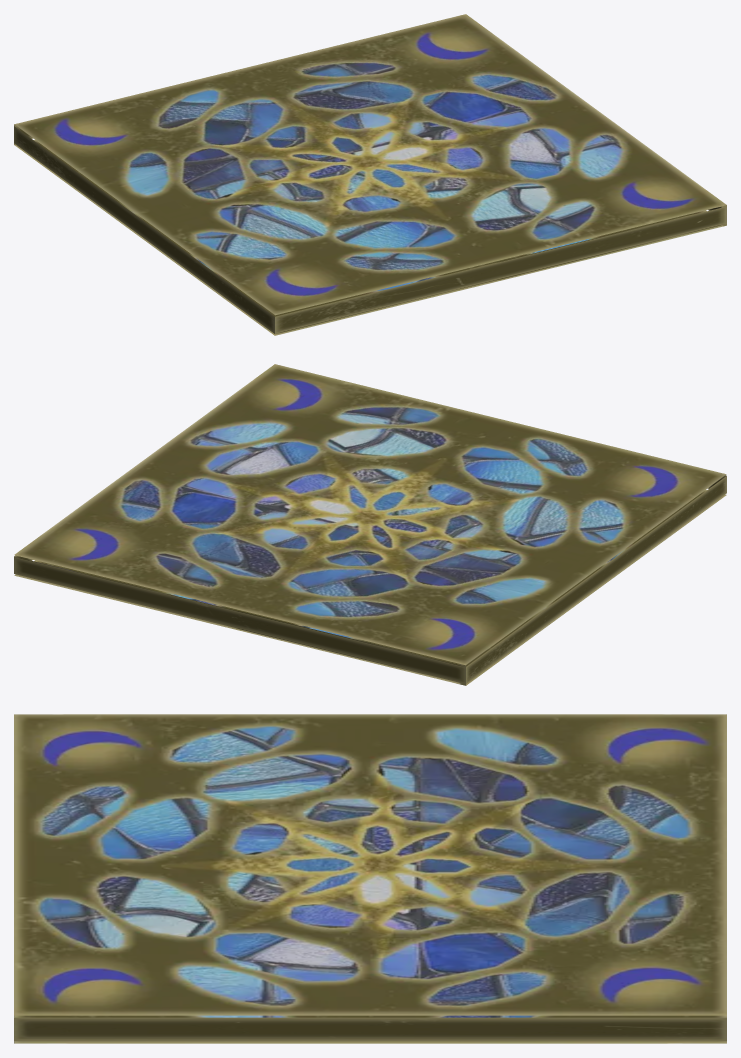
Rendered from tile6Compressed.glb.
The picture shows the model from 3 angles, top to bottom: view 1: azimuth 30°, elevation 25°; view 2: azimuth 150°, elevation 25°; view 3: azimuth 270°, elevation 25°; orthographic projection. The views are drawn at different scales.
Visible parts, largest first — view 1: tile6; view 2: tile6; view 3: tile6.
Boxes of the visible parts, x1=… form: tile6: x1=14, y1=14, x2=726, y2=335; tile6: x1=14, y1=364, x2=726, y2=685; tile6: x1=14, y1=714, x2=726, y2=1043.
Size of the model in its own units: 1 by 0.16 by 1.
Materials: 2 (1 with a texture image).
